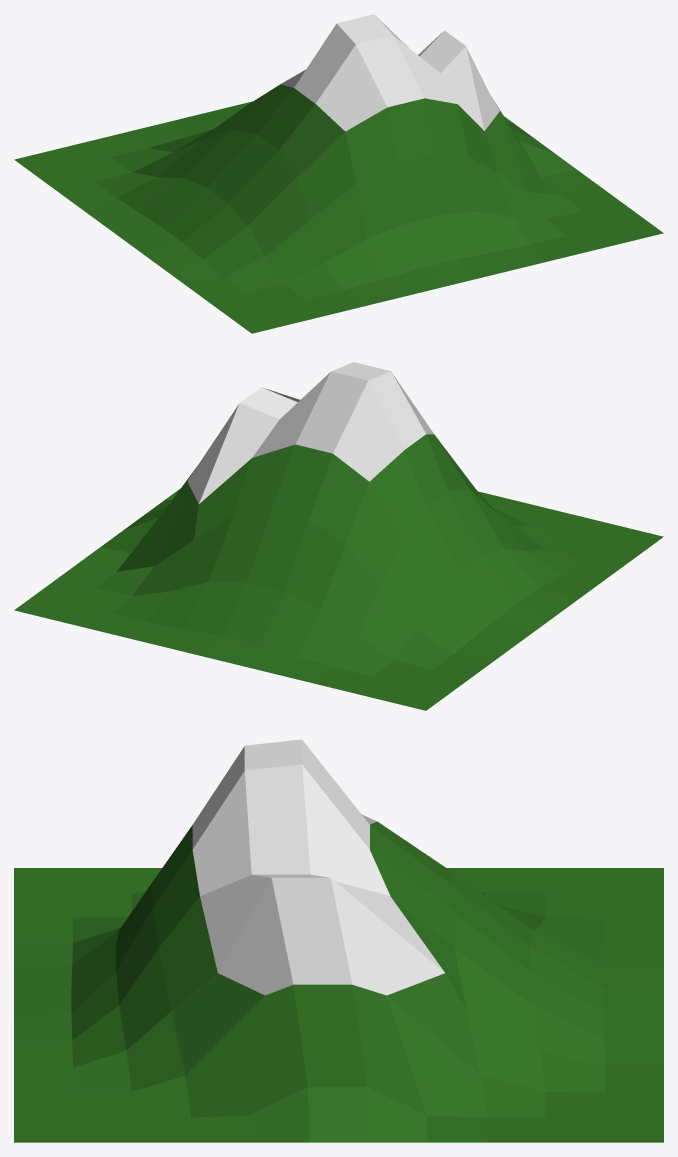
Rendered from BackgroundMountains_TFSGJ_Spring2026.fbx.
3 views of the same model, one above another, from view 1: azimuth 30°, elevation 25°; view 2: azimuth 150°, elevation 25°; view 3: azimuth 270°, elevation 25° (orthographic). The views are drawn at different scales.
Parts seen in each view (by area): view 1: Plane.001; view 2: Plane.001; view 3: Plane.001.
Boxes of the visible parts, x1,y1,x2,y2 form: Plane.001: (14,14,663,333); Plane.001: (14,362,663,710); Plane.001: (14,739,663,1142).
Size of the model in its own units: 877 by 380 by 877.
